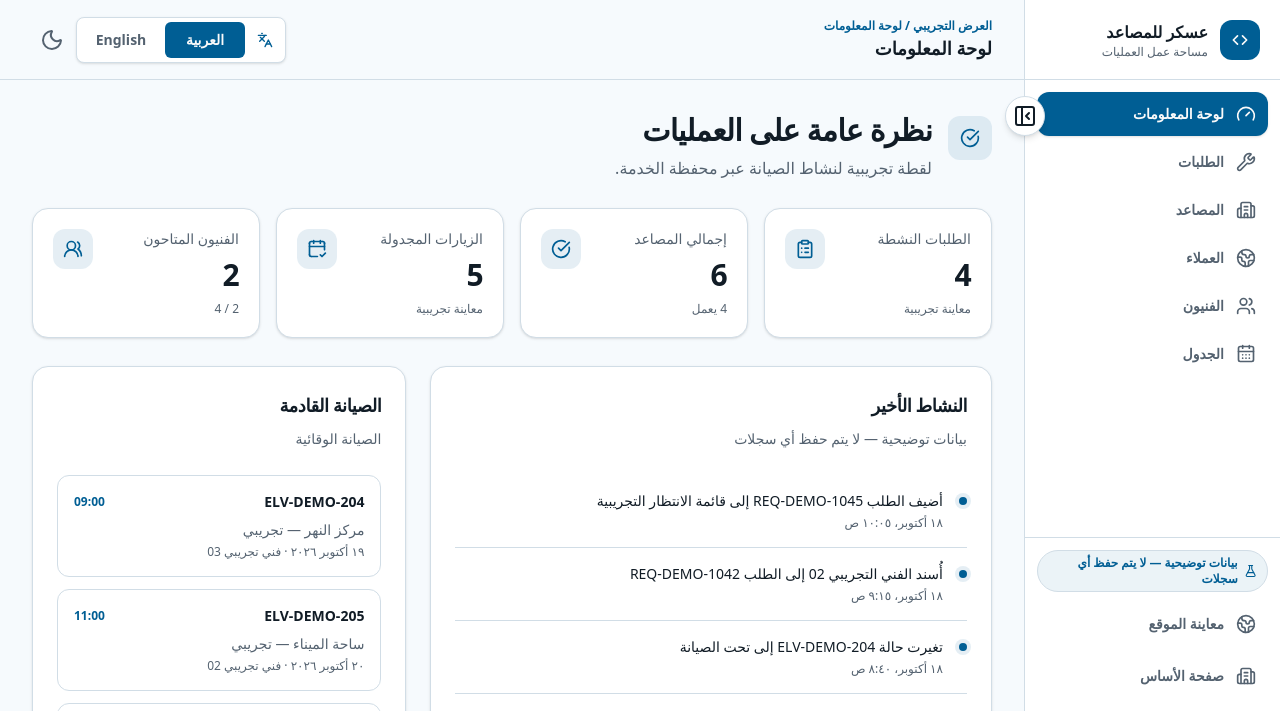
Test: interactive frontend preview › switches language and direction from inside the demo shell
The image size is (1280, 711).
Check: the heading "نظرة عامة على العمليات" is shown, box [615,112,932,148]
Click the button "English" at (121, 40), box [81,22,161,58]
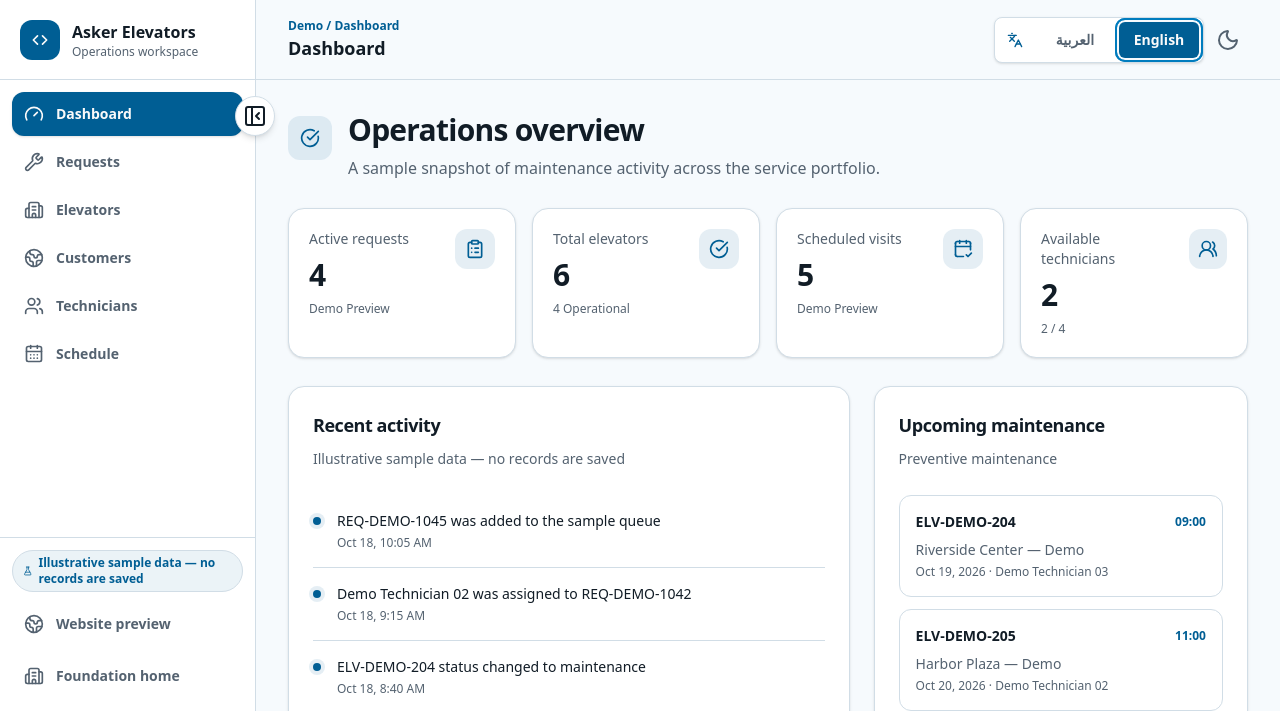
Check: the heading "Operations overview" is shown, box [348,109,644,150]
